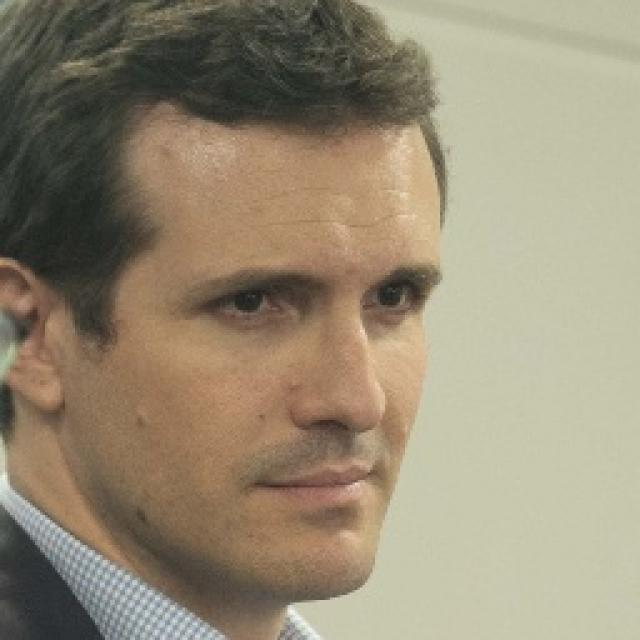earlobe: (24, 358, 69, 414)
eye: (207, 282, 286, 322), (363, 276, 420, 315)
nose: (291, 410, 396, 470)
wholeear: (0, 255, 69, 413)
